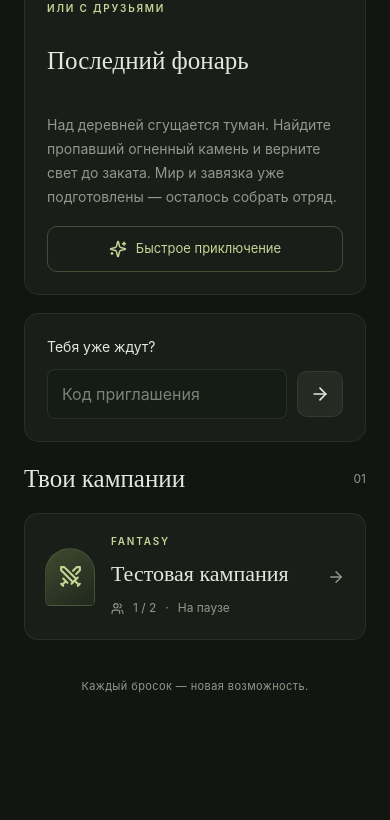
Test: adventure onboarding › hides finishing for non-owners
(page scrolled)
Click the button "Fantasy Тестовая кампания 1 / 2 · На паузе" at (195, 577), box top-left (24, 514), bottom-right (366, 640)
(page scrolled)
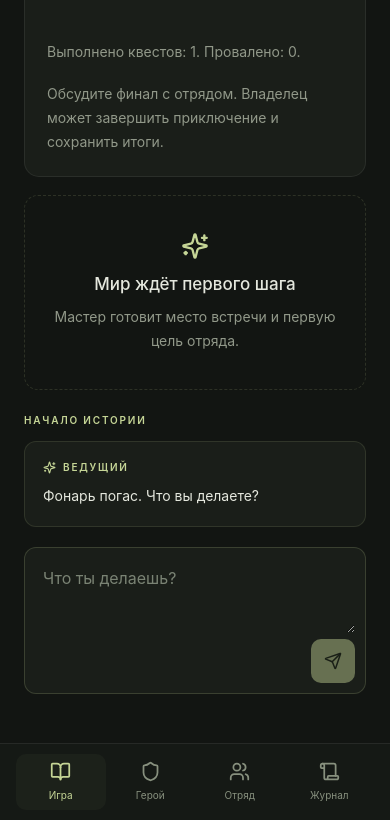
Result: the text "Обсудите финал с отрядом" is shown at top-left (47, 85), bottom-right (311, 150)
